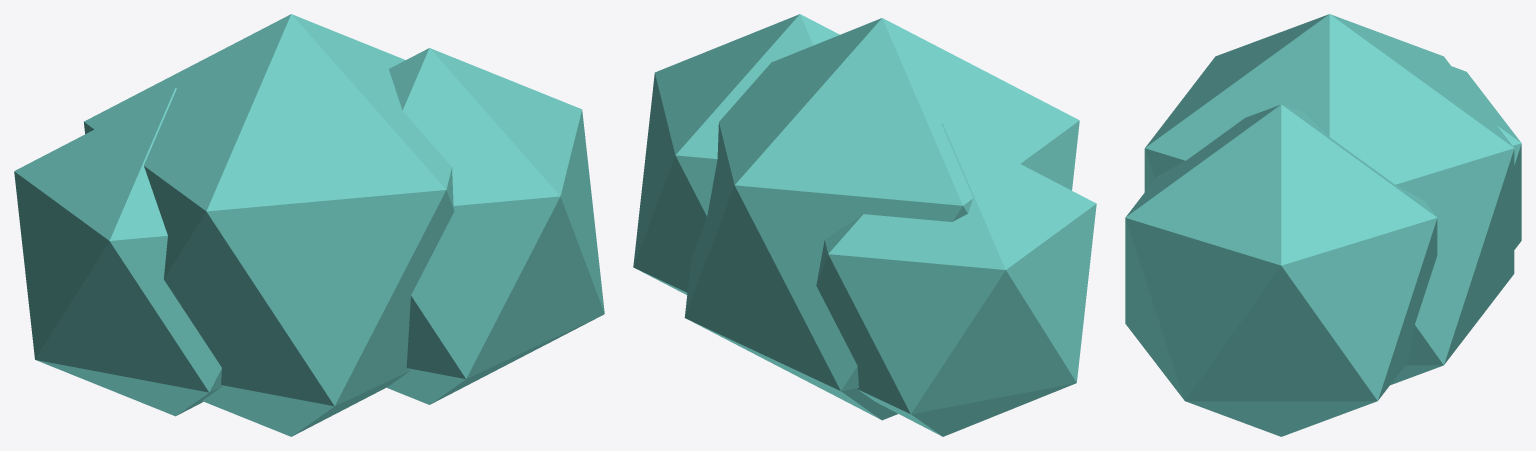
Rendered from low_poly_bush.glb.
The picture shows the model from 3 angles, left to right: view 1: azimuth 30°, elevation 25°; view 2: azimuth 150°, elevation 25°; view 3: azimuth 270°, elevation 25°; orthographic projection. The views are drawn at different scales.
Visible parts, largest first — view 1: Bush; view 2: Bush; view 3: Bush.
Boxes of the visible parts, box(x1,y1,x2,y2) form: Bush: box(14, 14, 604, 436); Bush: box(633, 14, 1096, 436); Bush: box(1125, 14, 1521, 436).
Bounding box in the file's own units: 1.1 × 0.9 × 0.821.
